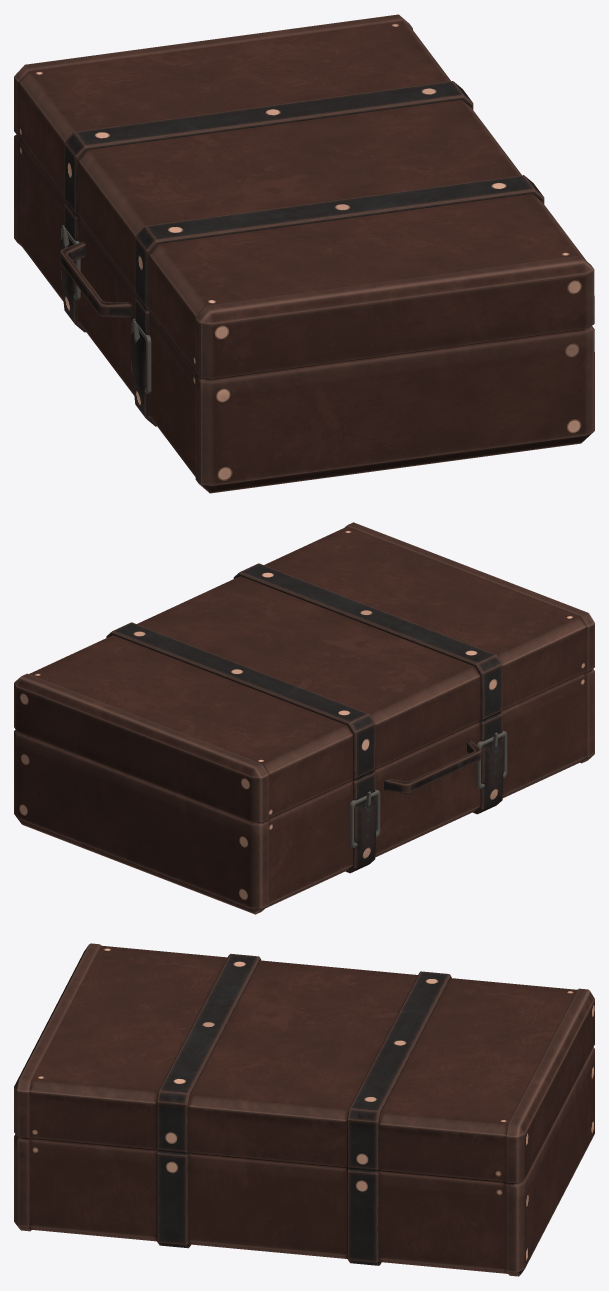
File: Suitcase_11.glb
3 renders of one model, top to bottom at view 1: azimuth 30°, elevation 25°; view 2: azimuth 150°, elevation 25°; view 3: azimuth 270°, elevation 25°, orthographic. The views are drawn at different scales.
Parts seen in each view (by area): view 1: Object_18; view 2: Object_18; view 3: Object_18.
Part boxes in pixels (x1,y1,x2,y2): Object_18: (14,14,594,493); Object_18: (14,522,594,914); Object_18: (14,943,594,1276).
Bounding box in the file's own units: 6.23 × 2.39 × 8.09.
1 material, 1 textured.
